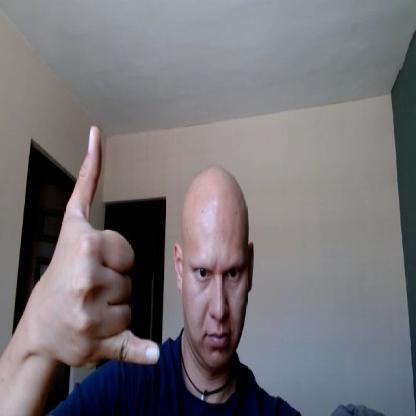Y: (45, 122, 161, 369)
